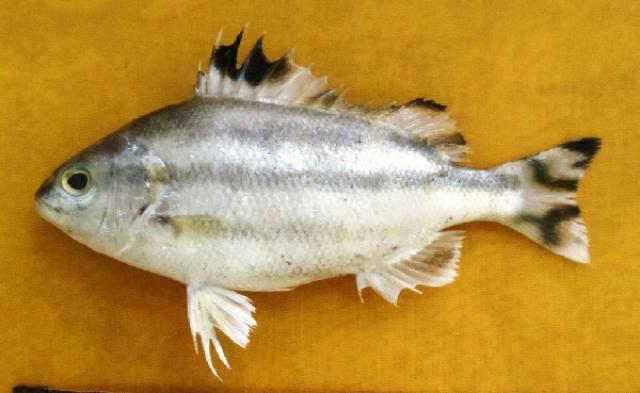Mulut: (24, 166, 64, 235)
Sirip Anal: (353, 229, 475, 312)
Sirip Dada: (152, 202, 244, 252)
Sirip Ekor: (499, 124, 613, 274)
Sirip Perut: (180, 276, 264, 384)
Sirip Punggung: (191, 17, 477, 167)
